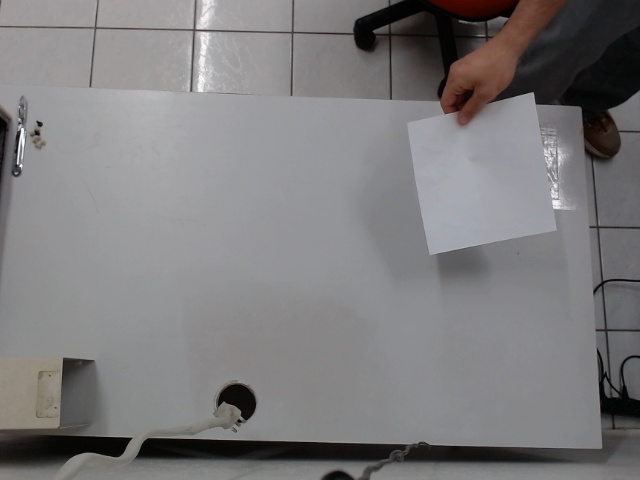divisor: (406, 91, 559, 257)
